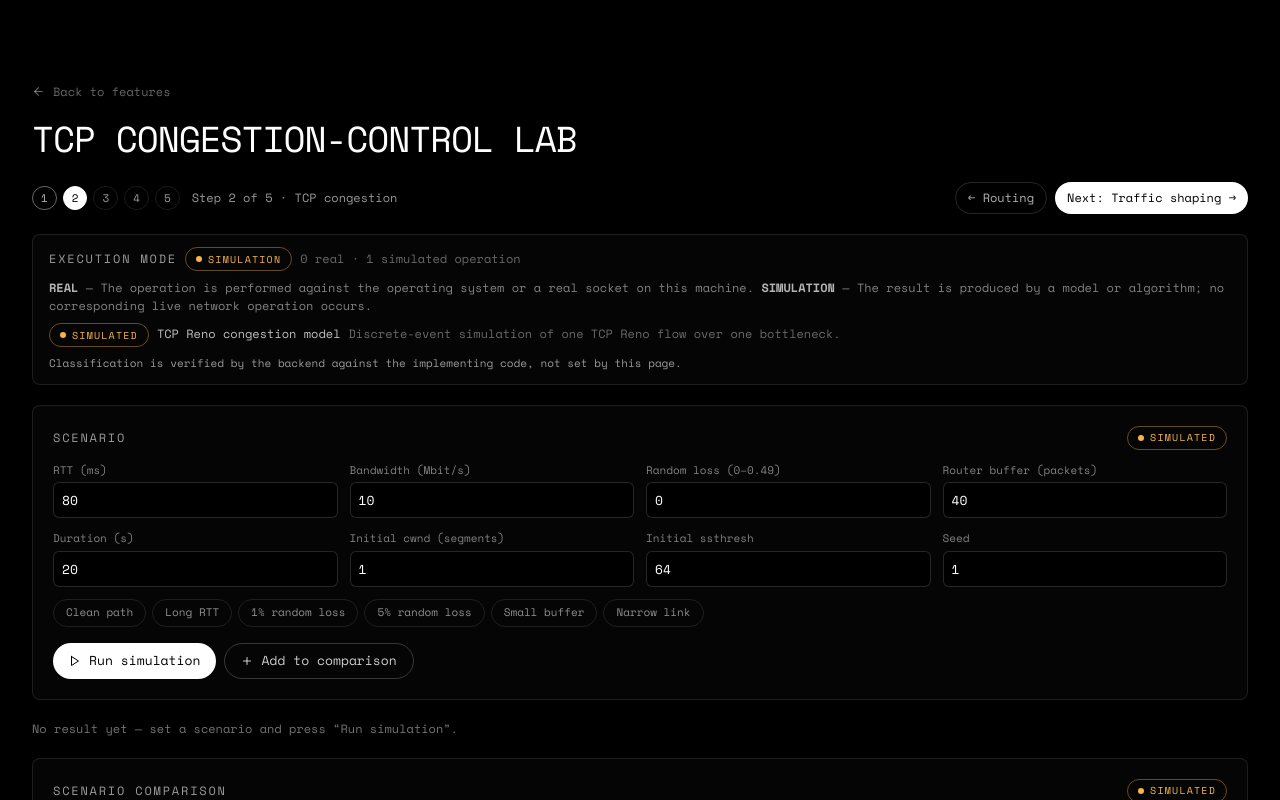
Test: TCP congestion lab › shows its run guide, an empty state, and then a SIMULATION result with the seed used
Expected: the text "No result yet — set a scenario and press “Run simulation”." is shown, [32,720,458,736]
Click the button "Run simulation" at (135,660), box [53,642,216,678]
(page scrolled)
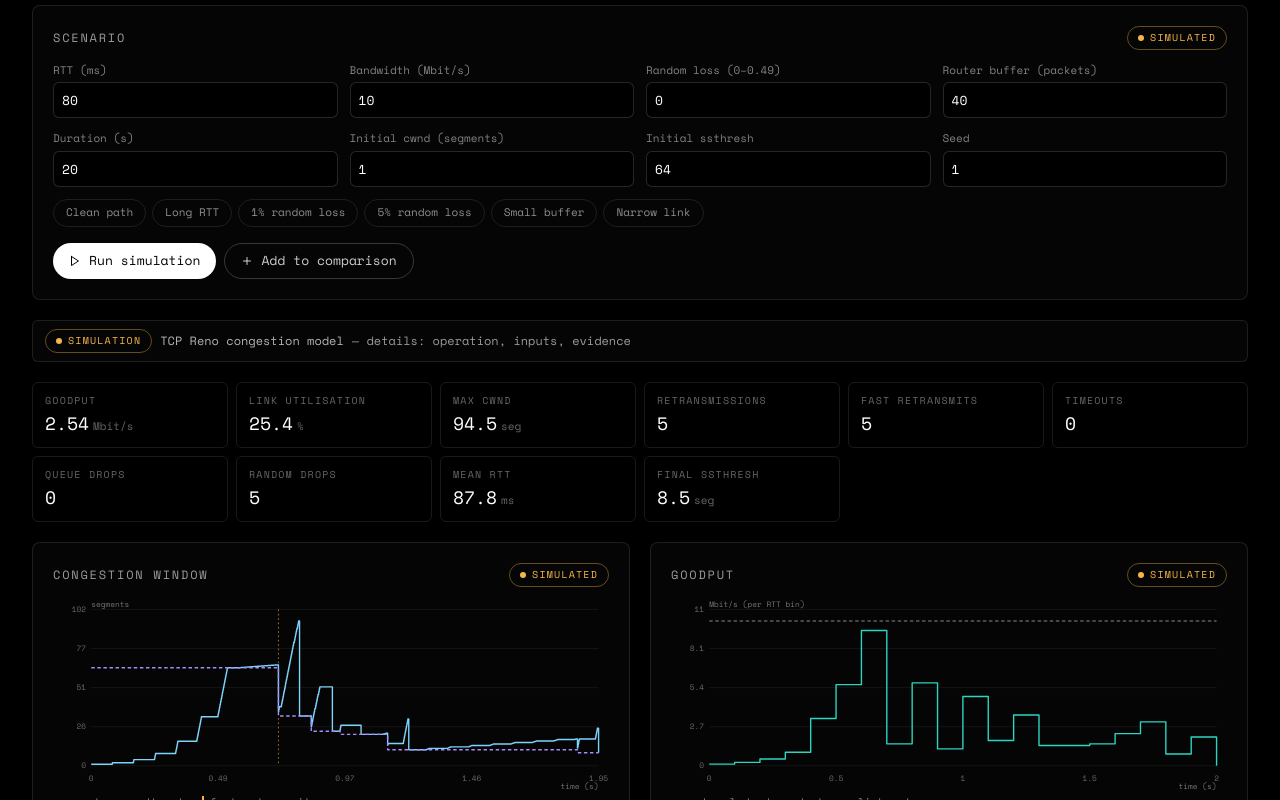
Now the picture named "segments over time" is shown, box [53,598,609,790]
Now the text "Fast retransmits" is shown, box [861,392,978,408]
